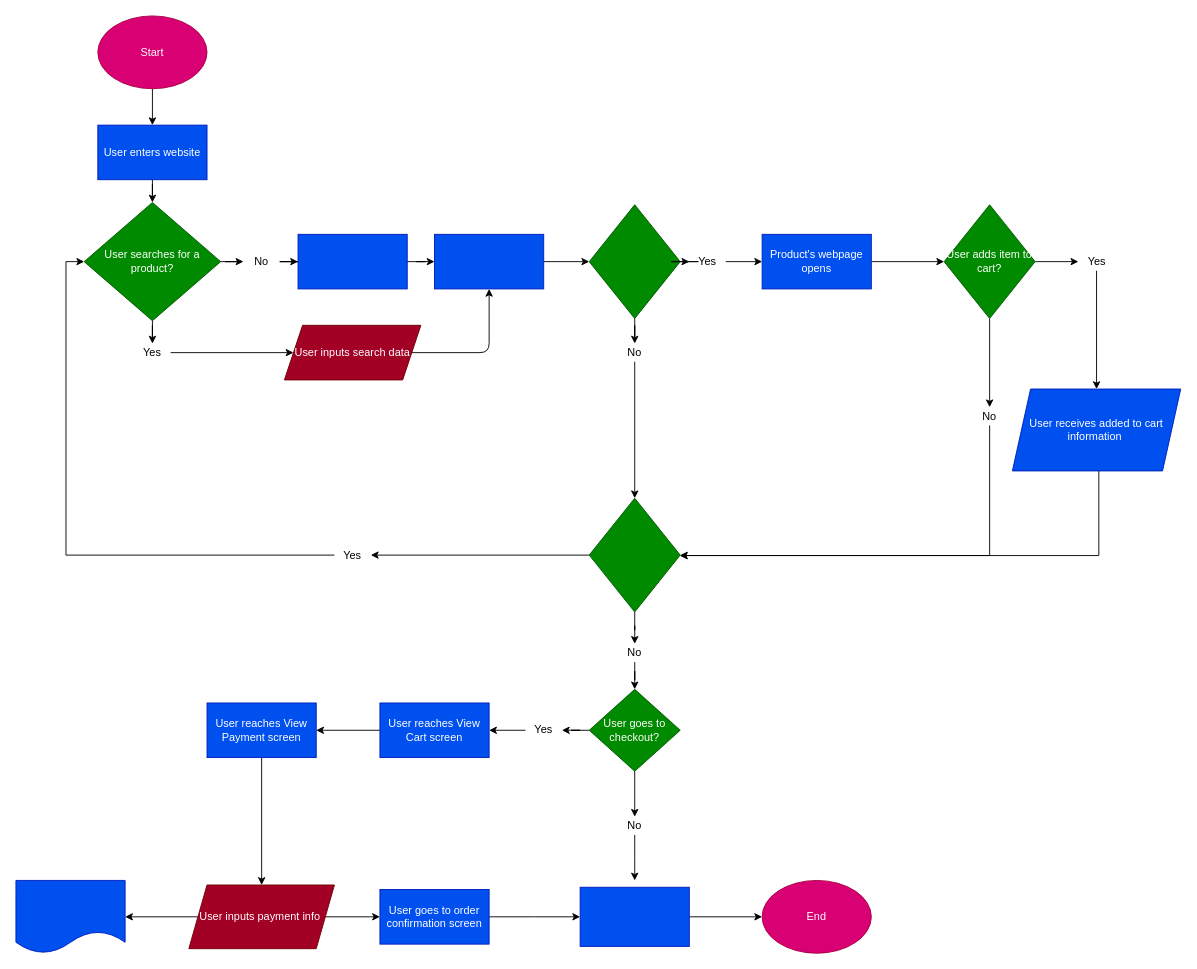
Image size: 1197x969. Some labels were removed from this diagram. Here are the shapes that lost their labels. From the top down, the box of each, then its label:
(297, 233, 407, 289): User explores products on homepage
(434, 233, 544, 289): User looks over products
(588, 204, 680, 318): User views a specific product?
(588, 497, 680, 612): User continues shopping?
(15, 880, 125, 953): User receives order confirmation email
(579, 886, 689, 946): User leaves website
